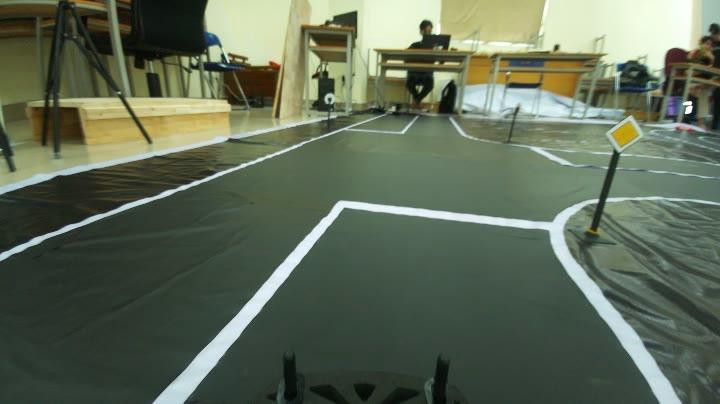priority: (601, 108, 646, 156)
